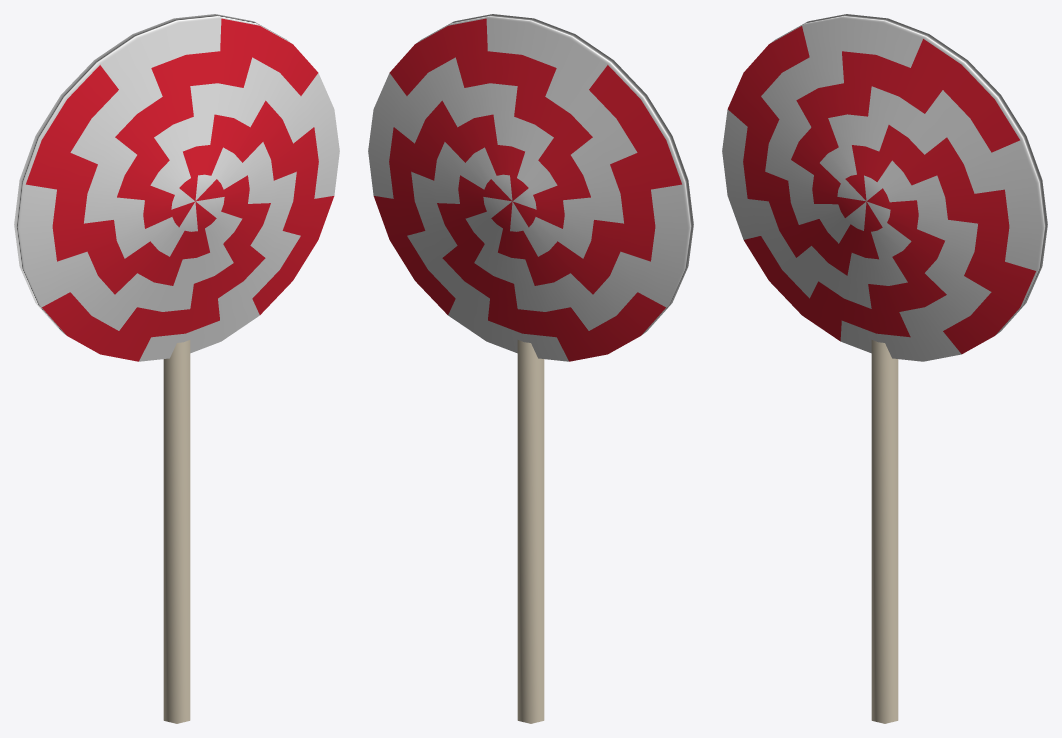
The model's file is piruleta.obj.
The picture shows the model from 3 angles, left to right: view 1: azimuth 30°, elevation 25°; view 2: azimuth 150°, elevation 25°; view 3: azimuth 330°, elevation 25°; orthographic projection.
Visible parts, largest first — view 1: Piruleta; view 2: Piruleta; view 3: Piruleta.
Part boxes in pixels (<box>): Piruleta: <box>14,14,339,723</box>; Piruleta: <box>368,14,693,723</box>; Piruleta: <box>722,14,1047,723</box>.
Size of the model in its own units: 1.2 by 2.5 by 0.2733.
